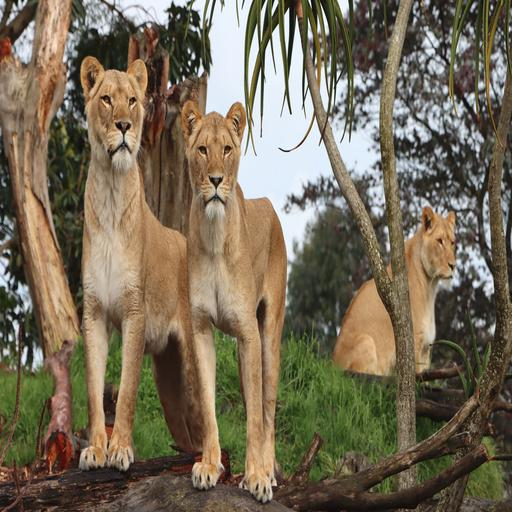lions: (38, 46, 480, 499)
